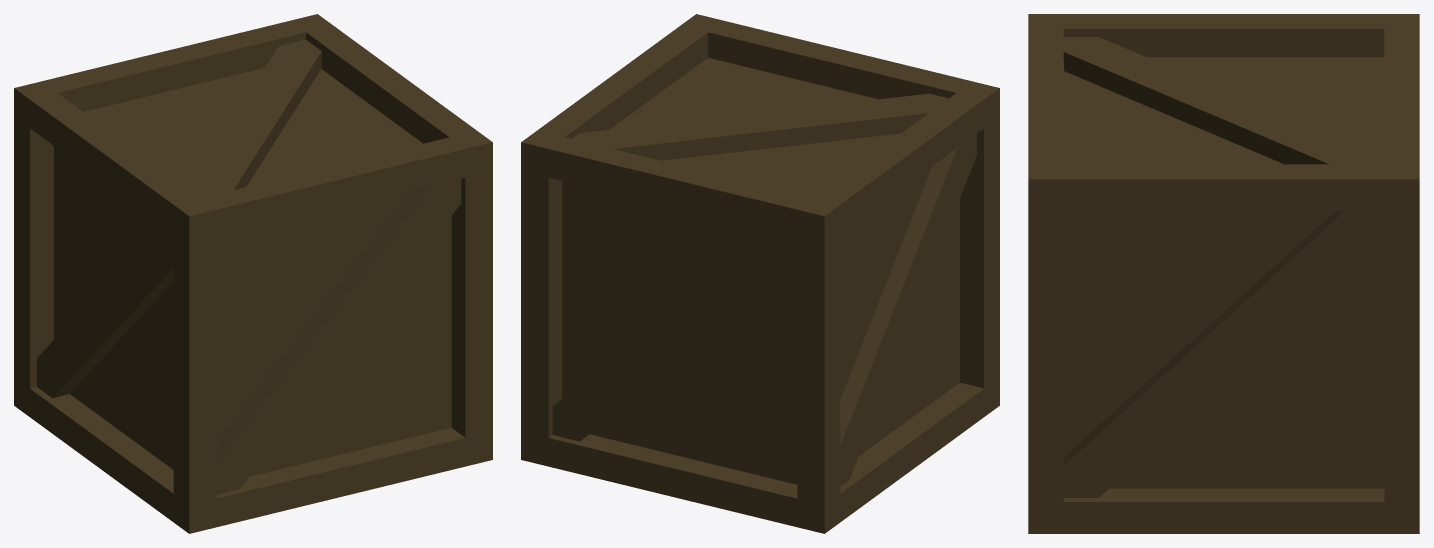
The model's file is Crate.fbx.
The picture shows the model from 3 angles, left to right: view 1: azimuth 30°, elevation 25°; view 2: azimuth 150°, elevation 25°; view 3: azimuth 270°, elevation 25°; orthographic projection. The views are drawn at different scales.
Parts seen in each view (by area): view 1: Crate; view 2: Crate; view 3: Crate.
Boxes of the visible parts, bbox=[...] form: Crate: bbox=[14, 14, 492, 533]; Crate: bbox=[521, 14, 999, 533]; Crate: bbox=[1028, 14, 1419, 533].
Size of the model in its own units: 100 by 100 by 100.
